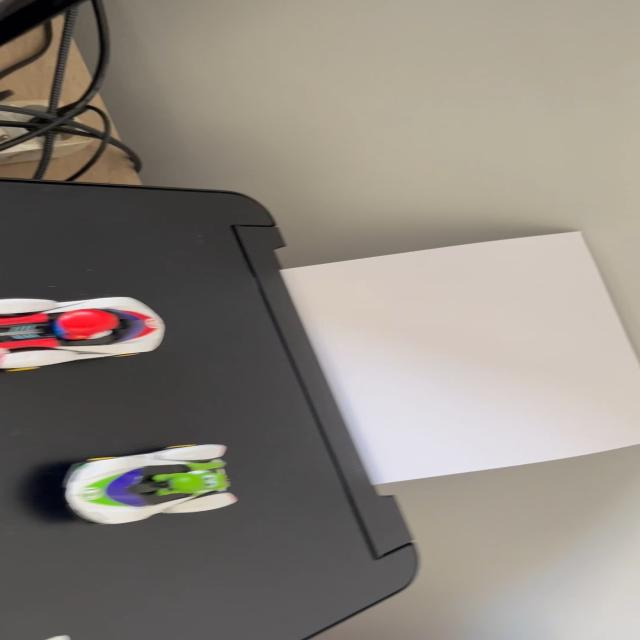mario: (0, 292, 188, 378)
yoshi: (48, 439, 251, 533)
